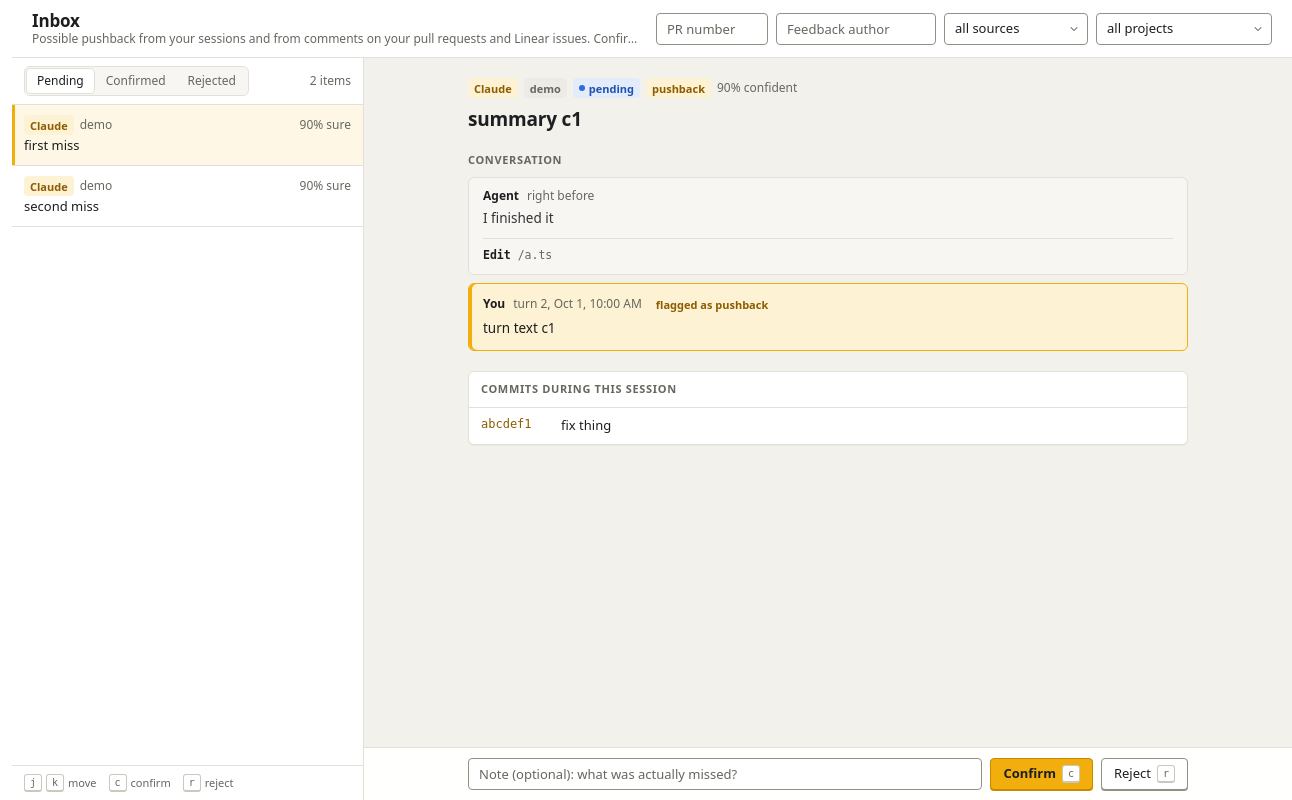
Test: while a decision is being saved, the buttons are disabled and further keys are ignored
This screenshot has width=1292, height=800.
Expected: the text "turn text c1" is shown, top-left (483, 319), bottom-right (556, 337)
Press c
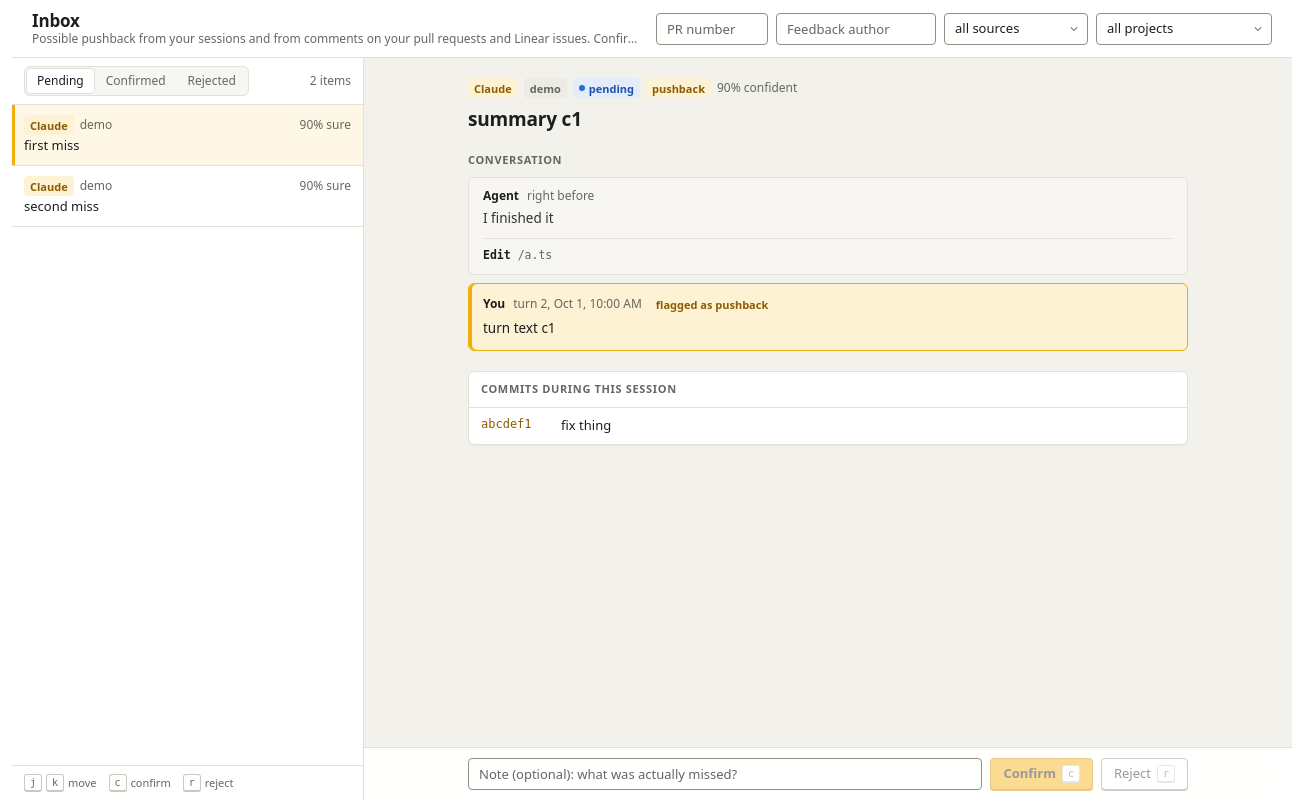
Now the button "Confirm c" is disabled, box top-left (990, 758), bottom-right (1093, 790)
Now the button "Reject r" is disabled, box top-left (1101, 758), bottom-right (1188, 790)
Press r
Press c
Click the button "Reject r".
click(1144, 774)  # box top-left (1101, 758), bottom-right (1188, 790)
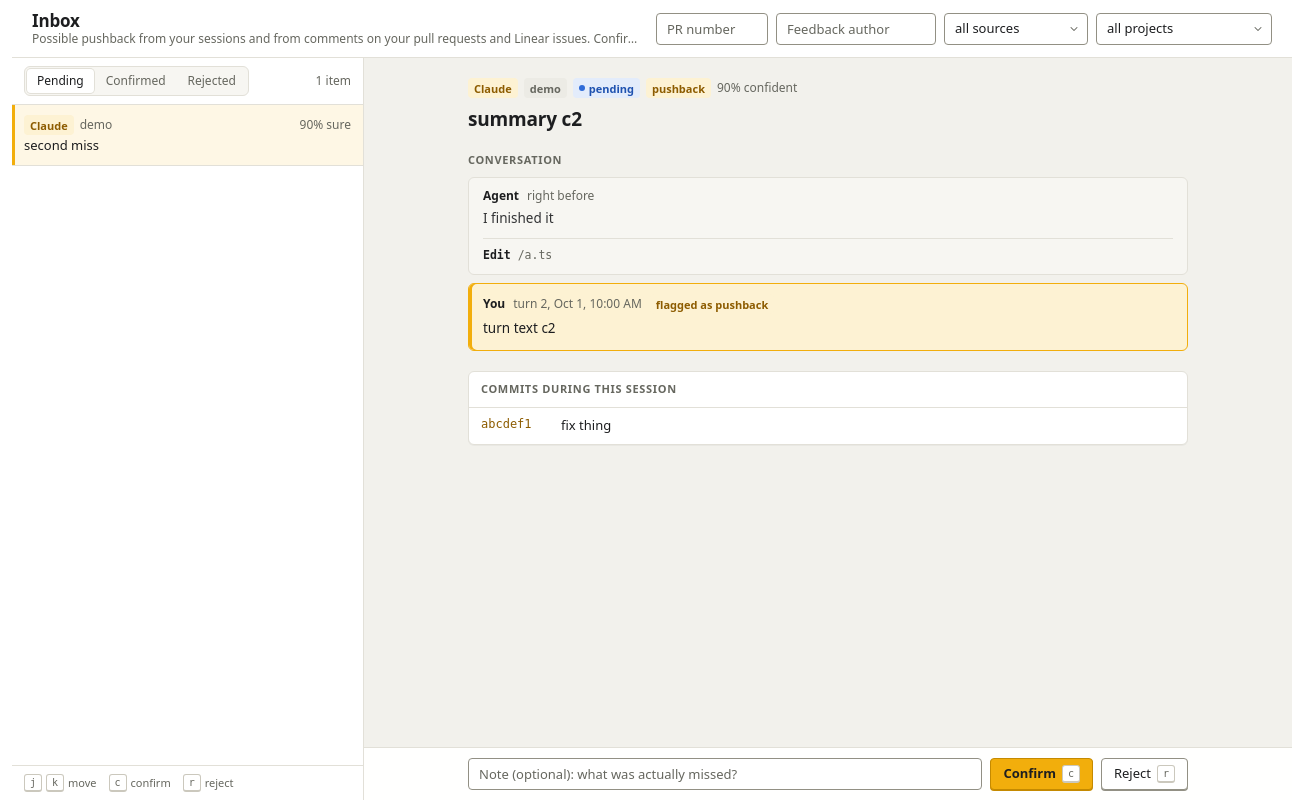
Now the text "turn text c2" is shown, box top-left (483, 319), bottom-right (556, 337)
